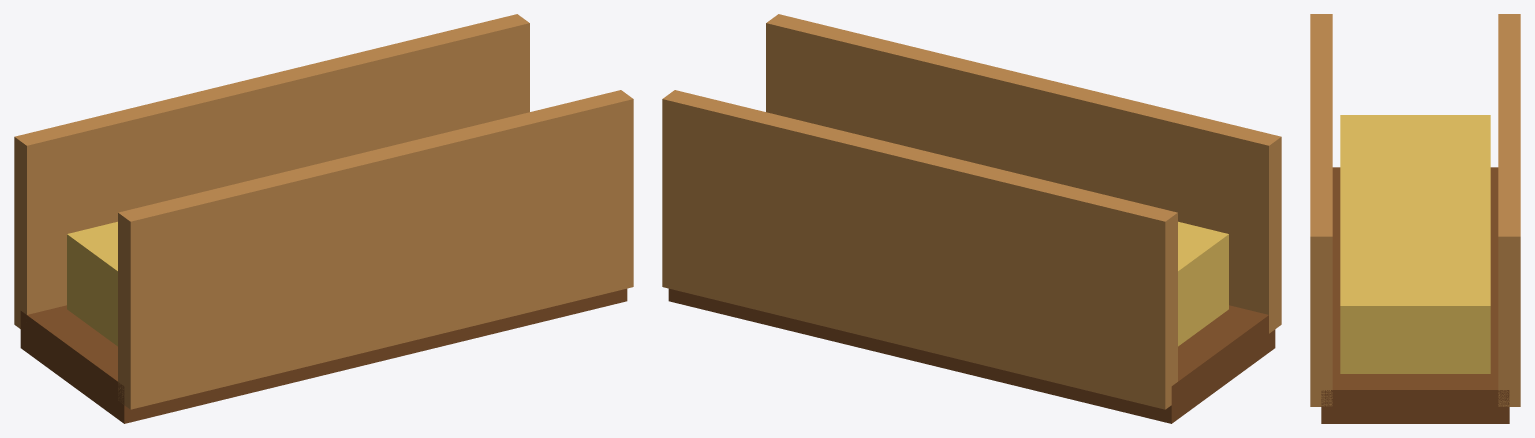
Rendered from hay_feeder.glb.
3 renders of one model, left to right at view 1: azimuth 30°, elevation 25°; view 2: azimuth 150°, elevation 25°; view 3: azimuth 270°, elevation 25°, orthographic. The views are drawn at different scales.
Visible parts, largest first — view 1: hay_feeder; view 2: hay_feeder; view 3: hay_feeder.
Boxes of the visible parts, x1=… form: hay_feeder: x1=14, y1=14, x2=633, y2=423; hay_feeder: x1=662, y1=14, x2=1281, y2=423; hay_feeder: x1=1310, y1=14, x2=1520, y2=423.
Size of the model in its own units: 1.4 by 0.55 by 0.56.
